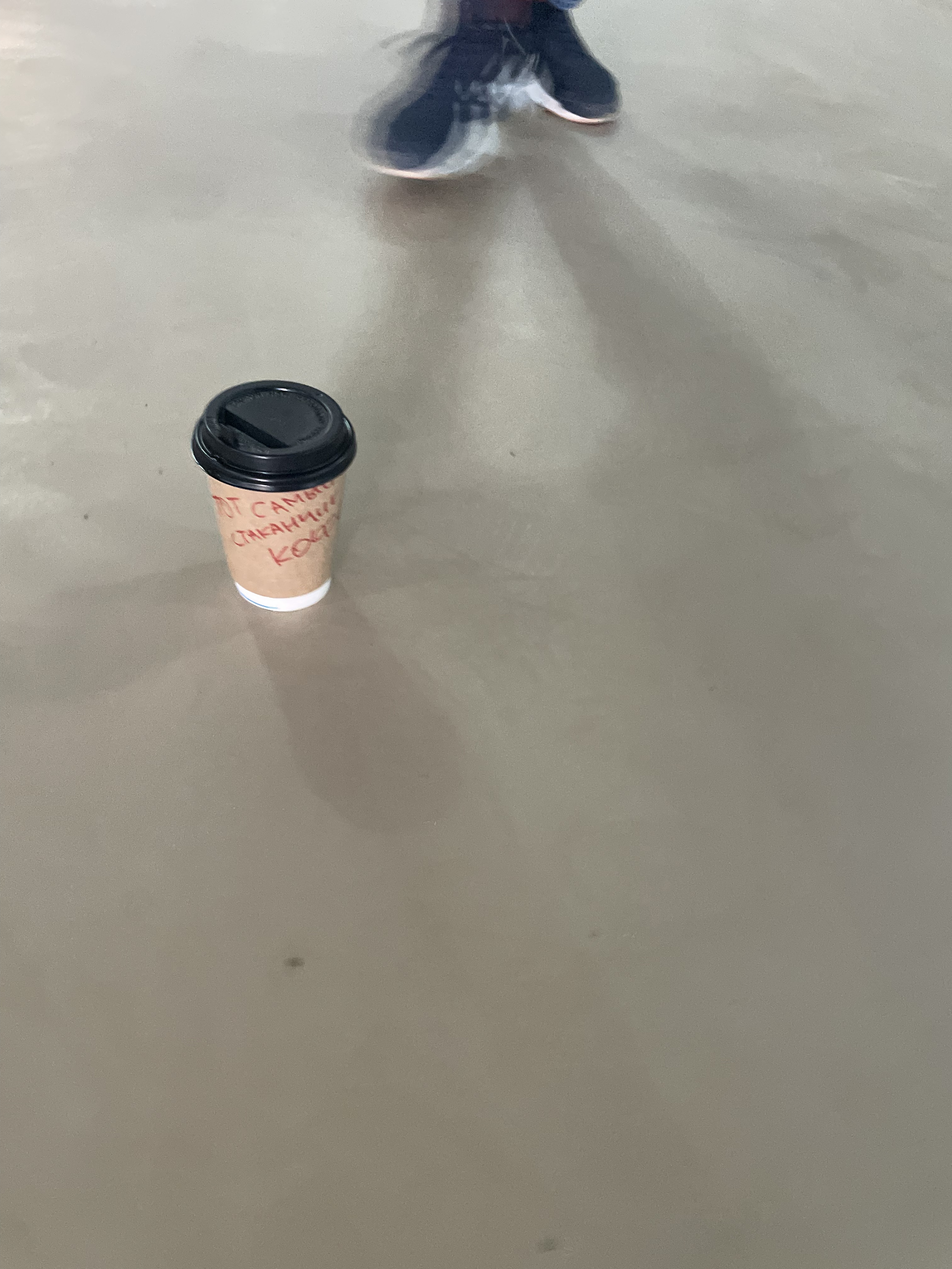cup: (191, 379, 357, 614)
